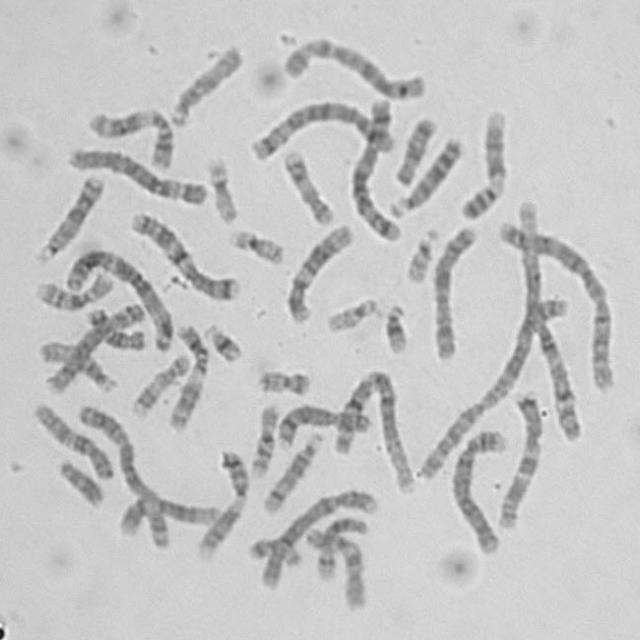A1: (494, 206, 620, 395), (328, 361, 420, 496)
A2: (412, 290, 575, 482), (494, 206, 620, 395)
A3: (70, 396, 172, 550), (58, 240, 176, 355)
B4: (251, 479, 379, 593), (444, 420, 512, 555)
B5: (244, 92, 398, 163), (344, 92, 404, 244)
C10: (26, 394, 116, 482), (300, 518, 368, 613)
C11: (83, 100, 176, 171), (162, 316, 210, 432)
C12: (280, 215, 356, 324), (111, 489, 223, 538)
C6: (276, 28, 428, 101), (61, 140, 210, 207)
C7: (124, 204, 241, 303), (492, 382, 546, 532)
C8: (38, 296, 147, 395), (270, 396, 374, 449)
C9: (454, 100, 512, 221), (191, 443, 251, 559)
D13: (383, 128, 466, 218), (30, 166, 106, 264)
D14: (257, 424, 326, 515), (312, 512, 373, 590)
D15: (163, 37, 245, 128), (31, 332, 119, 393)
E16: (29, 264, 117, 313), (243, 396, 282, 478)
E17: (276, 141, 336, 227), (125, 346, 191, 419)
E18: (388, 108, 440, 188), (82, 301, 148, 353)
F19: (200, 150, 240, 224), (224, 221, 286, 266)
F20: (242, 530, 305, 568), (251, 361, 313, 397)
G21: (198, 316, 244, 364), (377, 295, 411, 356)
G22: (319, 289, 381, 335), (399, 220, 441, 284)
X: (424, 217, 480, 362)
Y: (51, 452, 106, 509)
